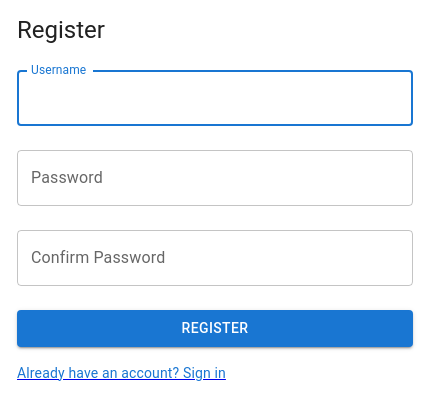
RegisterForm › not register user with mismatched passwords
The image size is (431, 420).
Expected: the heading "Register" is shown, x1=17 y1=16 x2=105 y2=44
Type "test" into the field labelled "Username" at (215, 98), box x1=17 y1=70 x2=413 y2=126
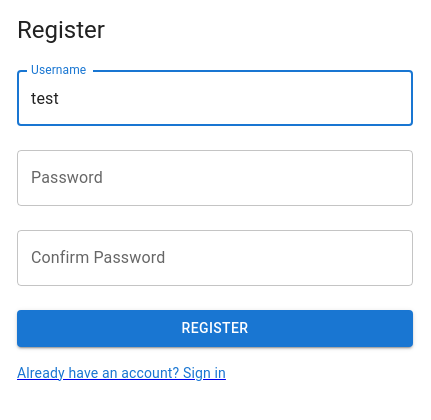
Type "password" into the password field labelled "Password" at (215, 178), box x1=17 y1=150 x2=413 y2=206
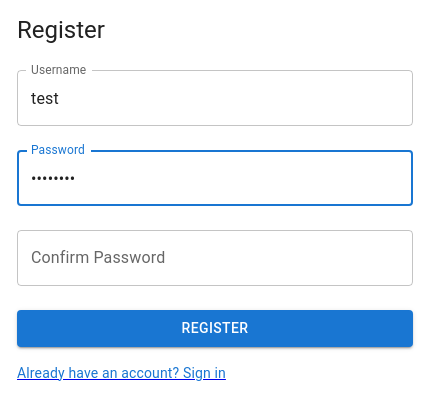
Type "wrongpassword" into the password field labelled "Confirm Password" at (215, 258), box x1=17 y1=230 x2=413 y2=286
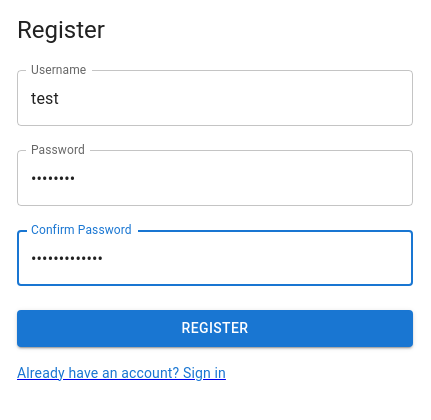
Click the button "Register" at (215, 328), box x1=17 y1=310 x2=413 y2=346
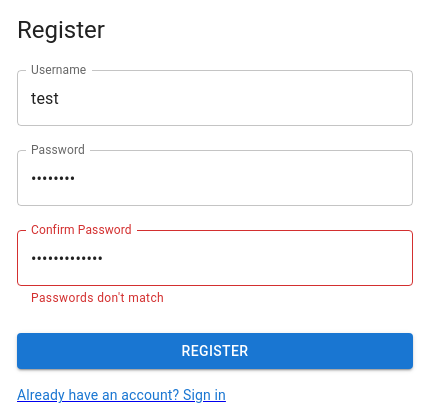
Expected: the text "Passwords don't match" is shown, x1=31 y1=291 x2=164 y2=305
